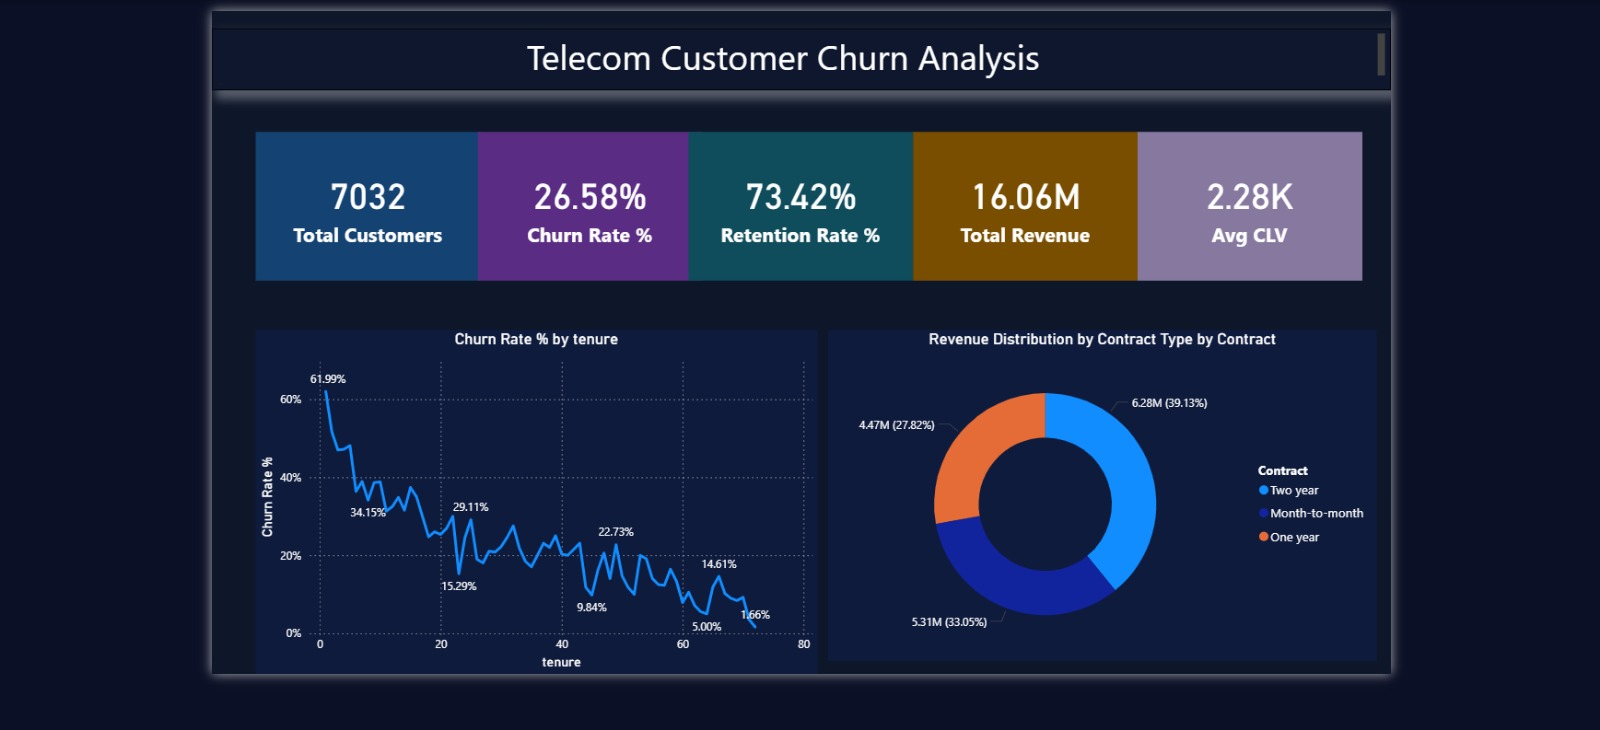

The page's visual inventory and layout, read from the dashboard file:
{"tool":"powerbi","page":{"name":"Executive Overview","canvas":[1280,720],"ordinal":0},"visuals":[{"type":"card","fields":{"Values":["Count(Sheet1.customerID)"]},"box":[47.5,131.2,243.8,161.2],"z":0},{"type":"card","fields":{"Values":["Sheet1.Churn Rate %"]},"box":[288.8,131.2,243.8,161.2],"z":1000},{"type":"card","fields":{"Values":["Sheet1.Retention Rate %"]},"box":[517.5,131.2,243.8,161.2],"z":2000},{"type":"card","fields":{"Values":["Sheet1.Total Revenue"]},"box":[761.2,131.2,243.8,161.2],"z":3000},{"type":"card","fields":{"Values":["Sheet1.Avg CLV"]},"box":[1005,131.2,243.8,161.2],"z":4000},{"type":"lineChart","title":"Churn Rate % by tenure","fields":{"Y":["Sheet1.Churn Rate %"],"Category":["Sheet1.tenure"]},"box":[47.5,346.2,610,373.8],"z":5000},{"type":"donutChart","fields":{"Category":["Sheet1.Contract"],"Y":["Sum(Sheet1.TotalCharges)"]},"box":[668.8,346.2,596.2,360],"z":6000},{"type":"textbox","box":[0,18.7,1280,67.2],"z":7000}]}

Visuals, with their boxes on the page's 1280x720 design canvas (x1, y1, x2, y2). These are canvas units, not pixel positions in the 1600x730 screenshot, which may show the page scaled, cropped or inside an application window:
card - Count(Sheet1.customerID): l=48, t=131, r=291, b=292
card - Sheet1.Churn Rate %: l=289, t=131, r=533, b=292
card - Sheet1.Retention Rate %: l=518, t=131, r=761, b=292
card - Sheet1.Total Revenue: l=761, t=131, r=1005, b=292
card - Sheet1.Avg CLV: l=1005, t=131, r=1249, b=292
"Churn Rate % by tenure" lineChart: l=48, t=346, r=658, b=720
donutChart - Sheet1.Contract x Sum(Sheet1.TotalCharges): l=669, t=346, r=1265, b=706
textbox: l=0, t=19, r=1280, b=86
